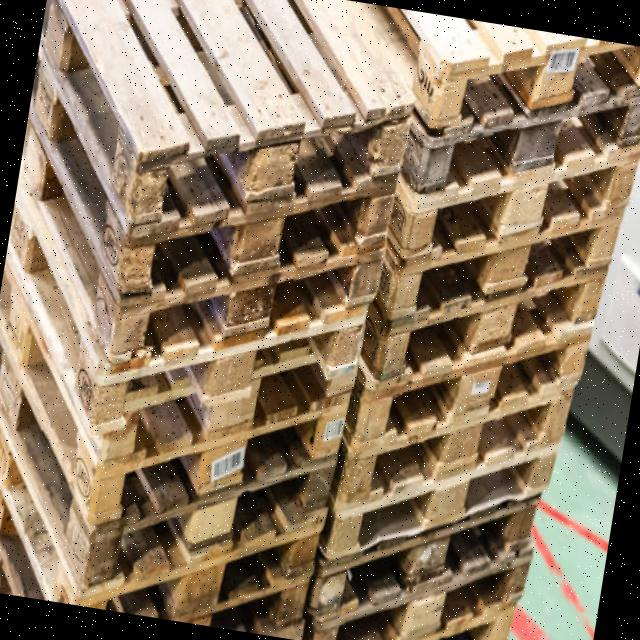Wooden-Pallets: (128, 101, 419, 234), (93, 389, 357, 533), (93, 306, 375, 439), (323, 434, 572, 577), (118, 189, 401, 308), (109, 242, 391, 361), (344, 379, 587, 505), (380, 261, 608, 382), (391, 207, 630, 318)
